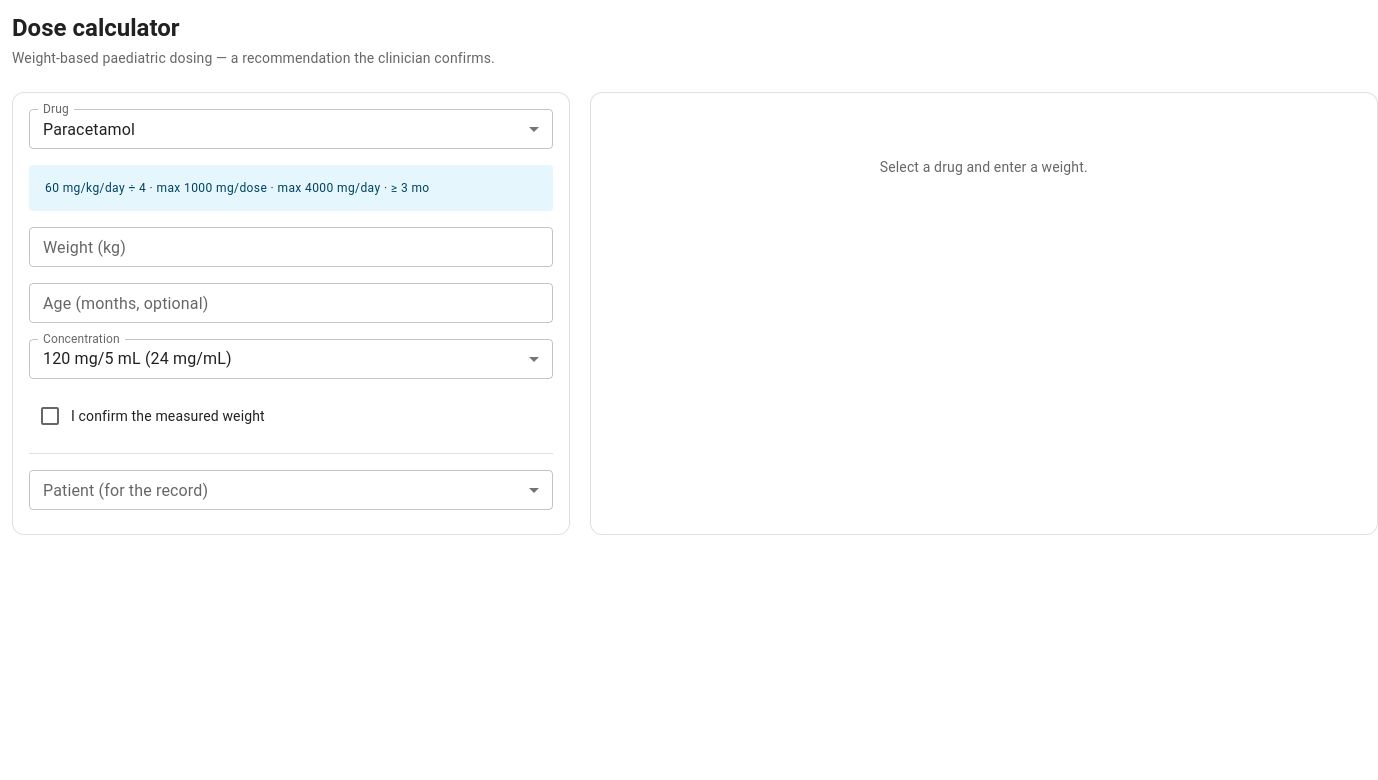
Test: a dose that was not recorded says so on the screen that ordered it › confirms a successful commit with the log id, and posts what was on screen
The width and height of the screenshot is (1378, 780).
Expected: the dropdown named "Drug" reads "Paracetamol", [43,120,135,138]
In the number field labelled "Weight (kg)": (291,247) [29,227,552,267], type "14"
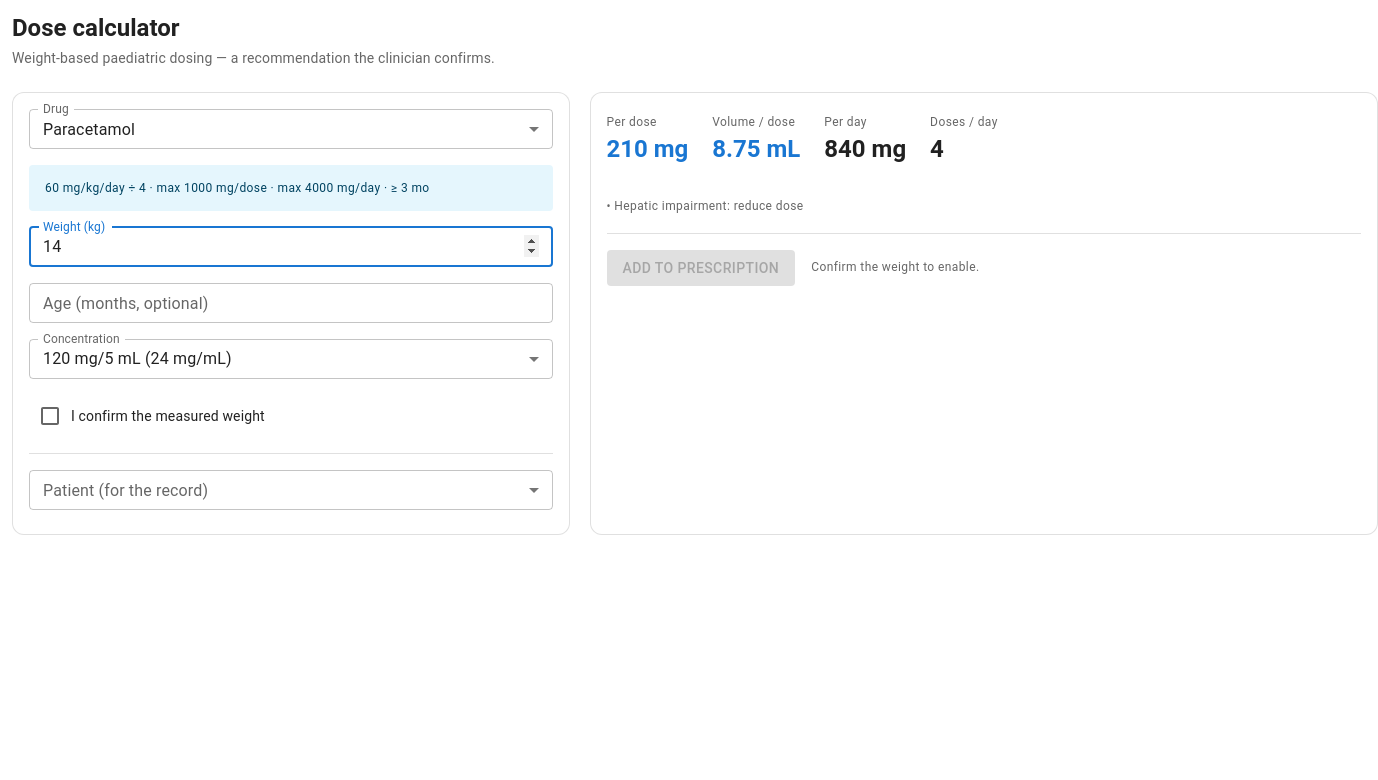
Now the heading "210 mg" is shown, box [606,133,688,165]
Click the checkbox labelled "I confirm the measured weight": (151,416) [38,404,265,428]
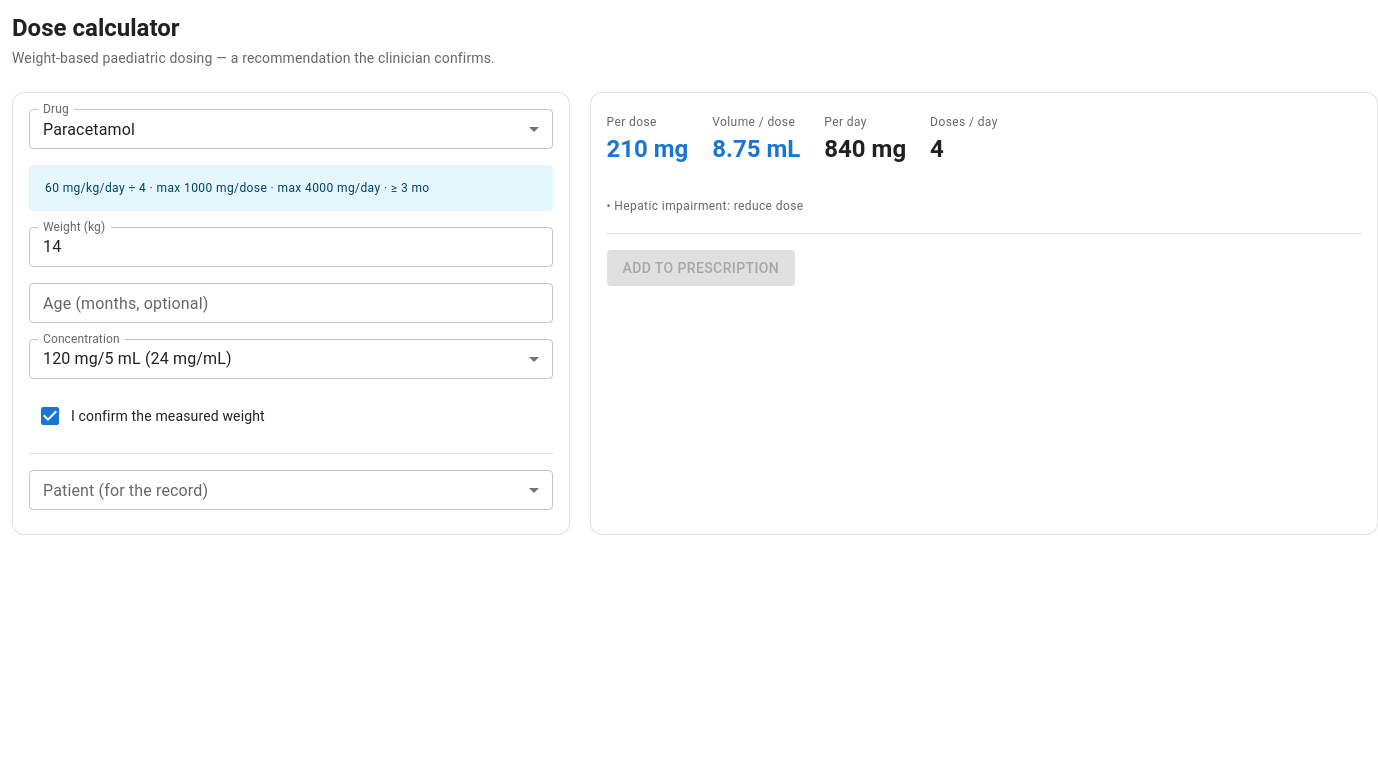
Click the dropdown named "Patient": (291,490) [29,470,552,510]
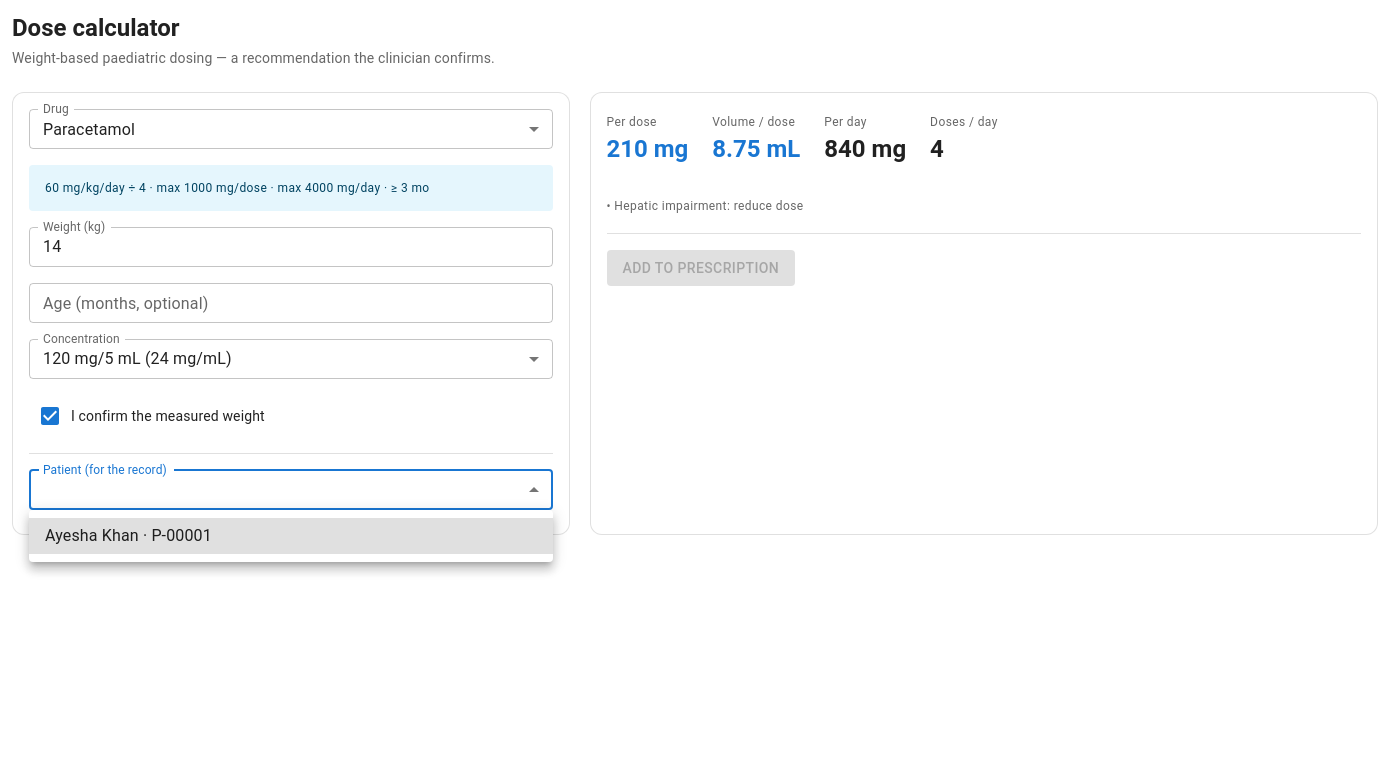
Click the option "Ayesha Khan · P-00001": (92,536) [29,518,553,554]
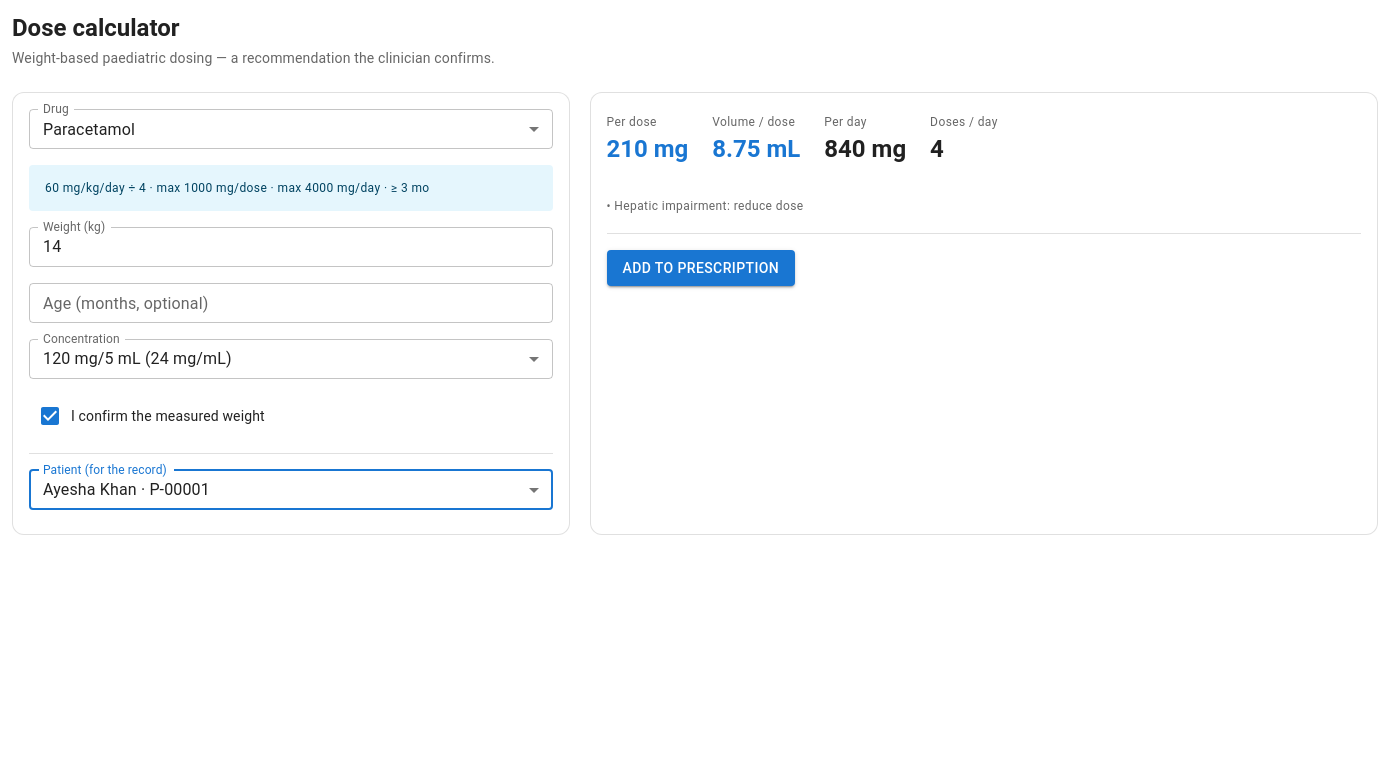
Click the button "Add to prescription": (701,268) [606,250,795,286]
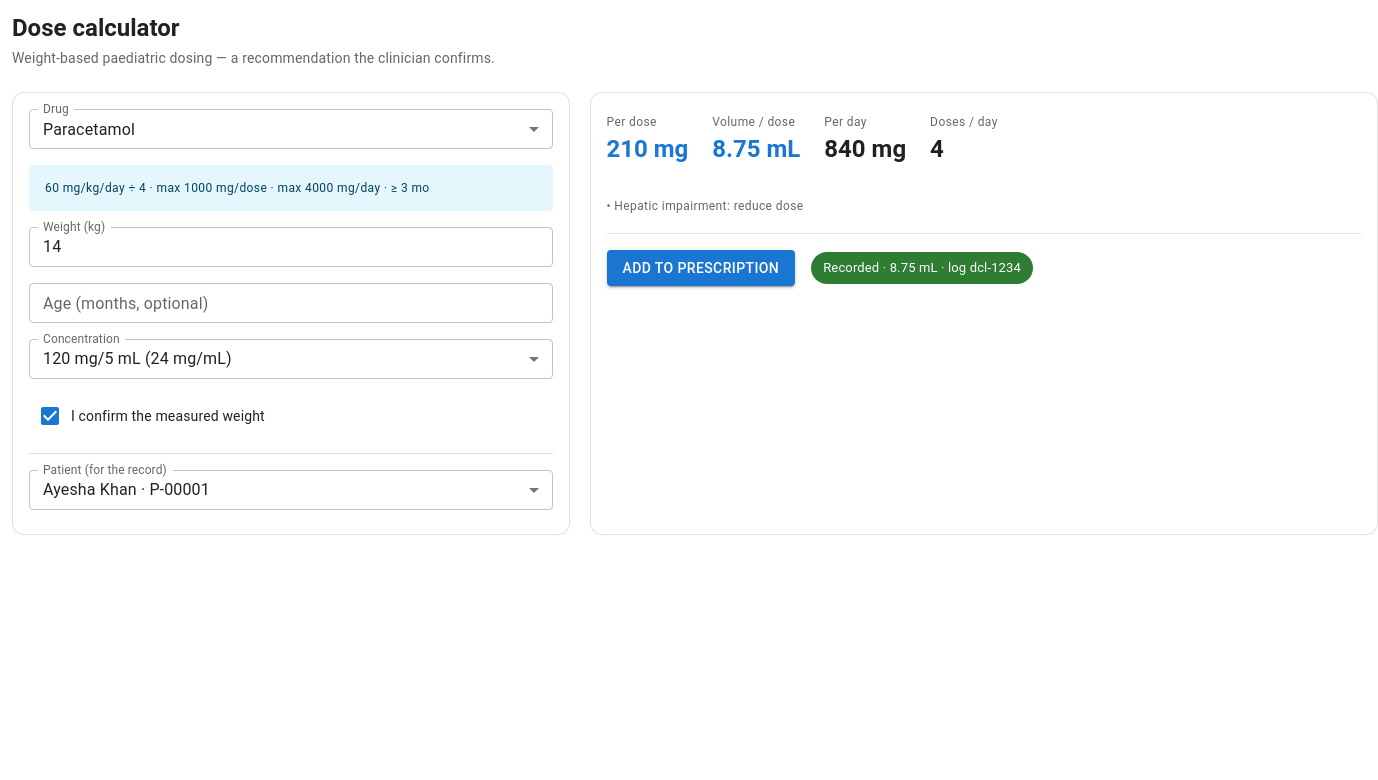
Now the text "Recorded · 8.75 mL · log dcl-1234" is shown, box [811,258,1033,278]
